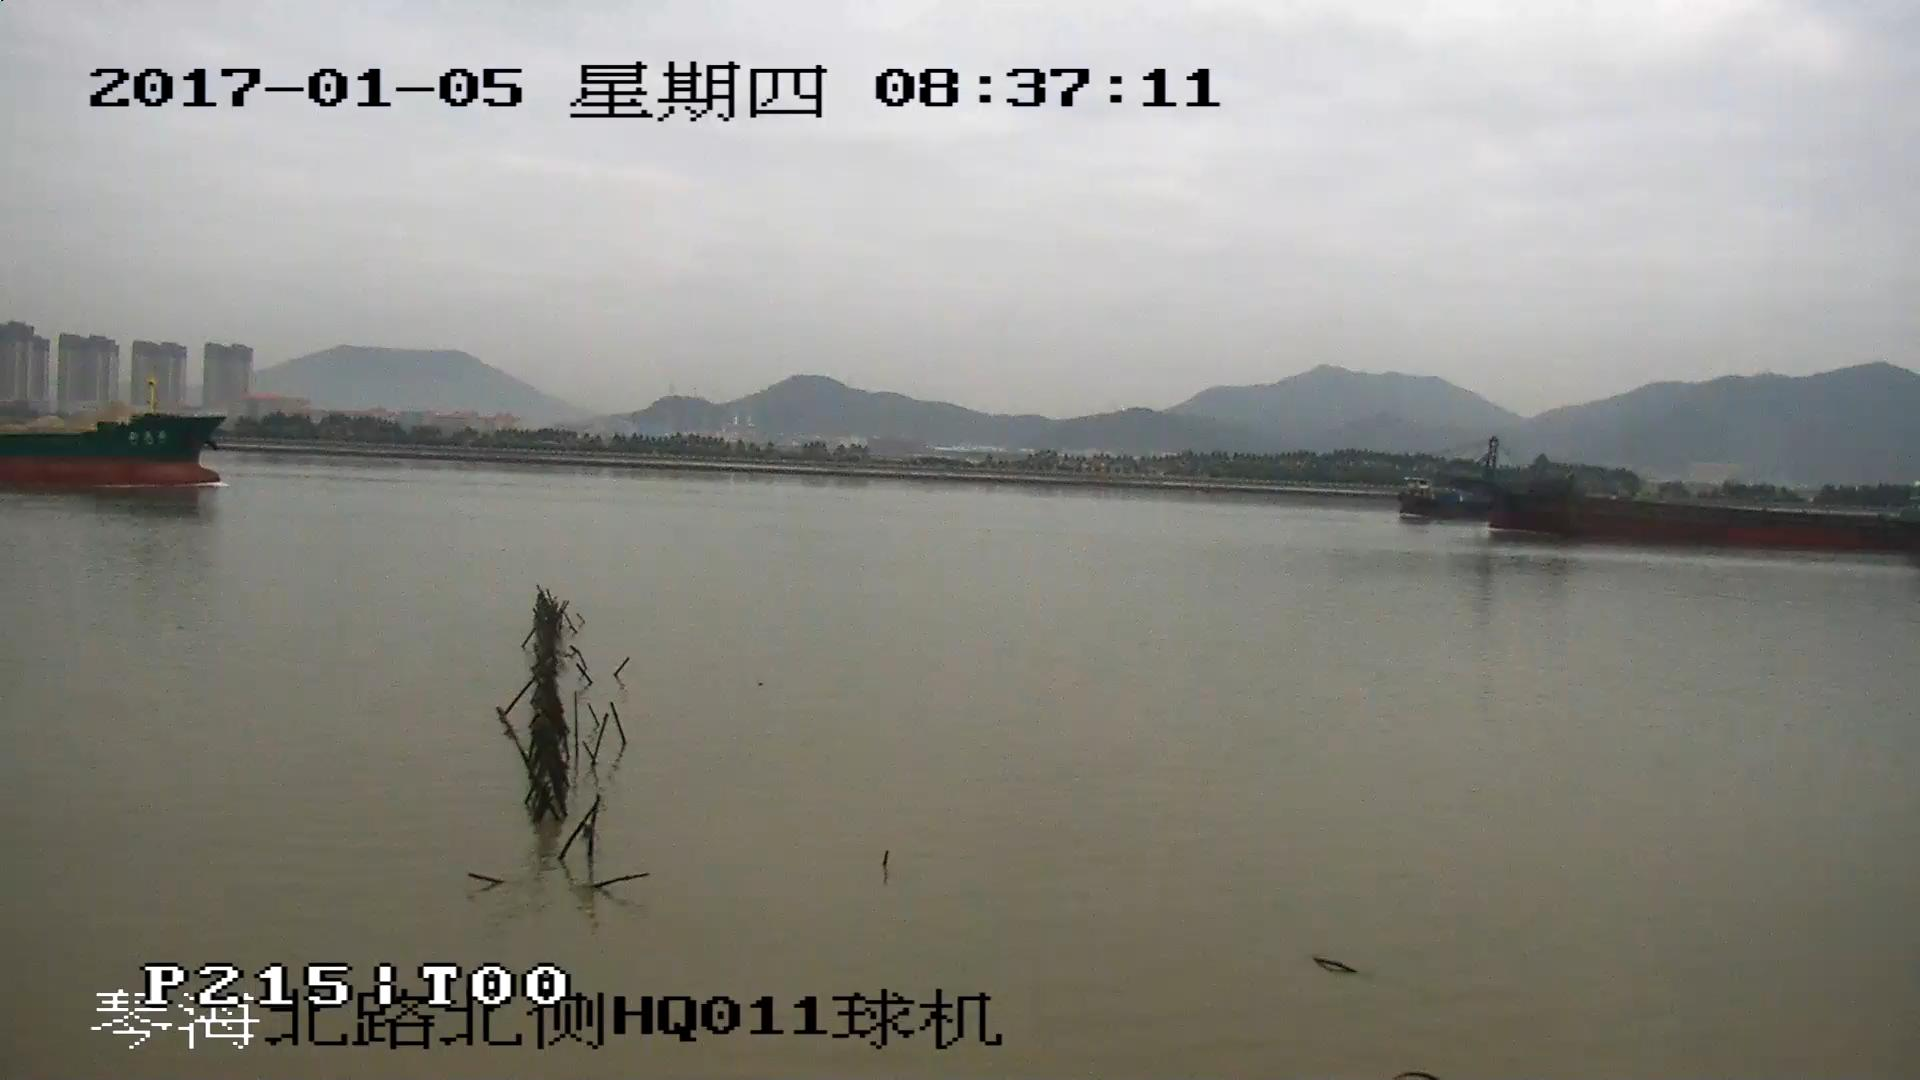bulk cargo carrier: (1402, 439, 1920, 553)
general cargo ship: (1, 390, 227, 486)
